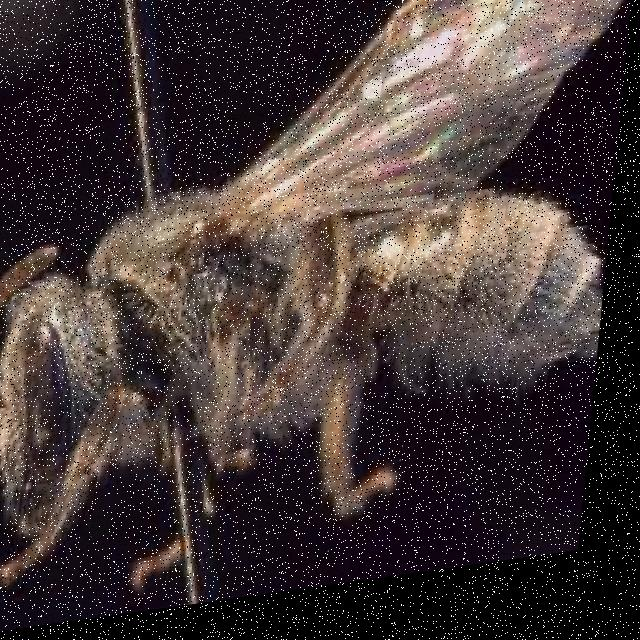Lasioglossum: (0, 0, 637, 607)
